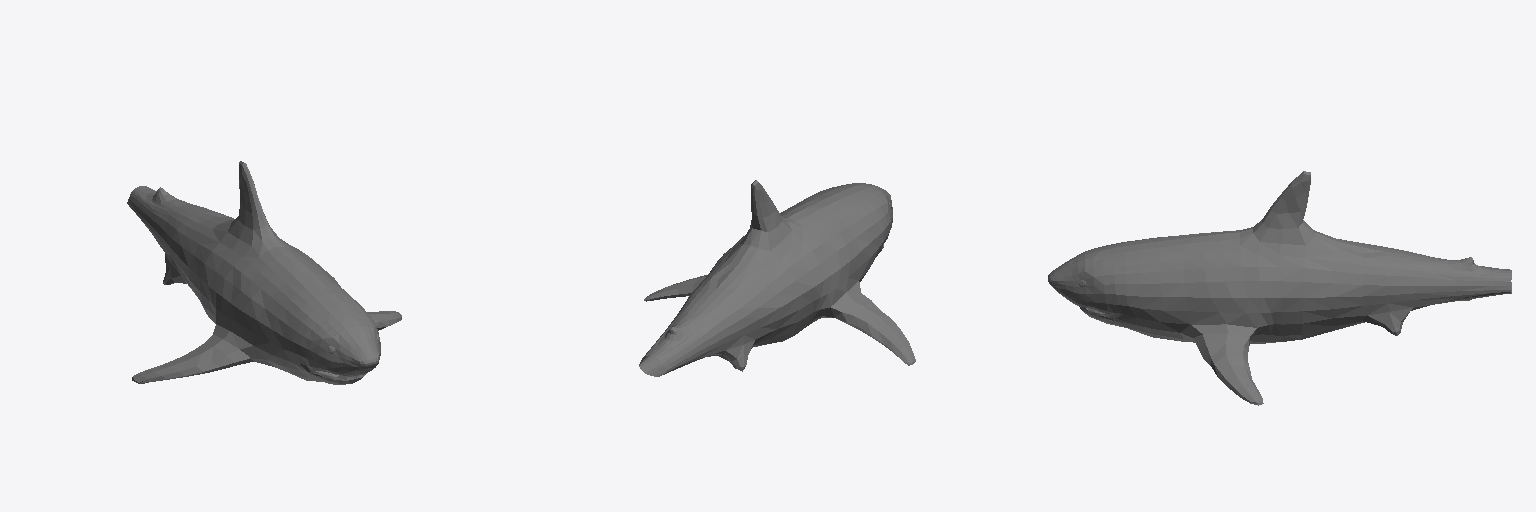
File: cuerpoTib.obj
3 views of the same model, side by side, from view 1: azimuth 30°, elevation 25°; view 2: azimuth 150°, elevation 25°; view 3: azimuth 270°, elevation 25° (orthographic).
Visible parts, largest first — view 1: cuerpoTib; view 2: cuerpoTib; view 3: cuerpoTib.
Part boxes in pixels (left/top/right/bottom): cuerpoTib: left=127, top=161, right=401, bottom=384; cuerpoTib: left=639, top=180, right=915, bottom=376; cuerpoTib: left=1048, top=171, right=1511, bottom=405.
Size of the model in its own units: 66.57 by 40.22 by 99.82.